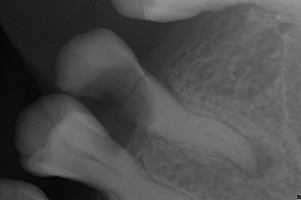Furcation Involvement: (236, 138, 273, 184)
